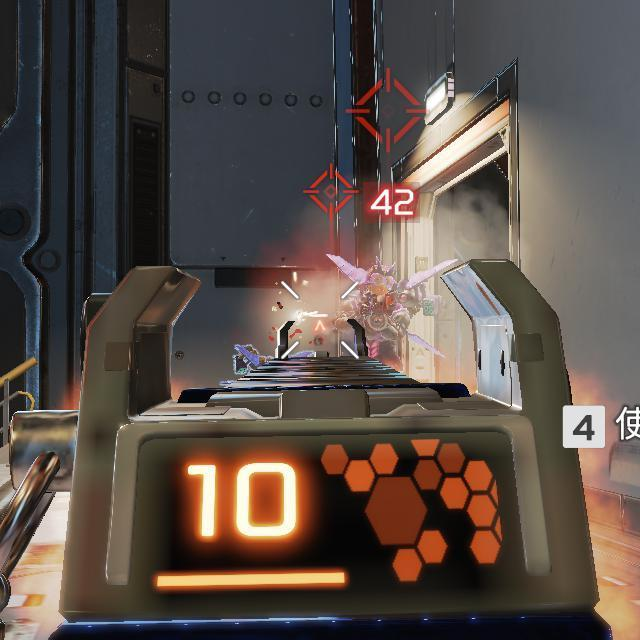avatar: (330, 262, 421, 357)
